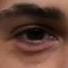eye: (27, 29, 44, 40)
